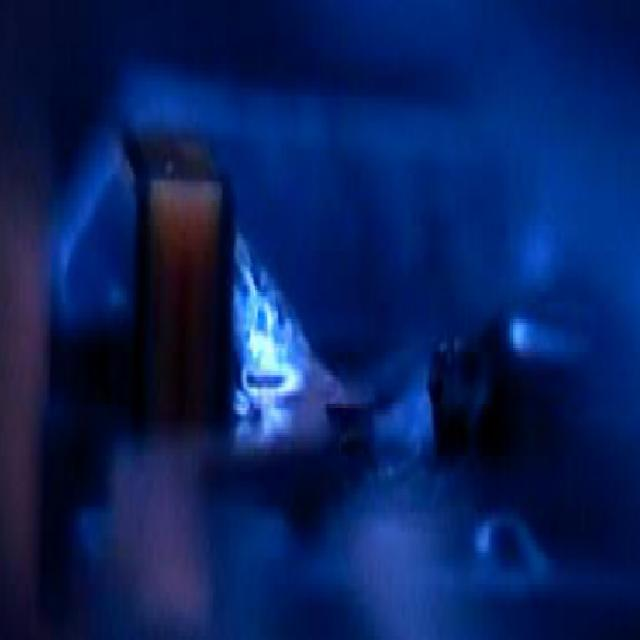Good: (220, 207, 347, 438)
